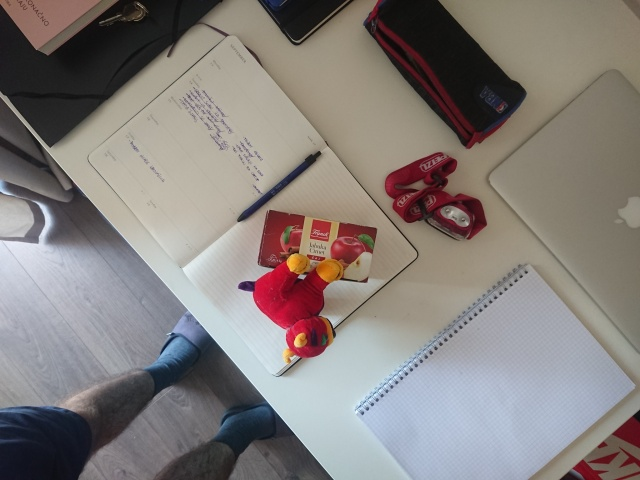Franck Apple Cinnamon Tea 60g: (255, 207, 378, 284)
